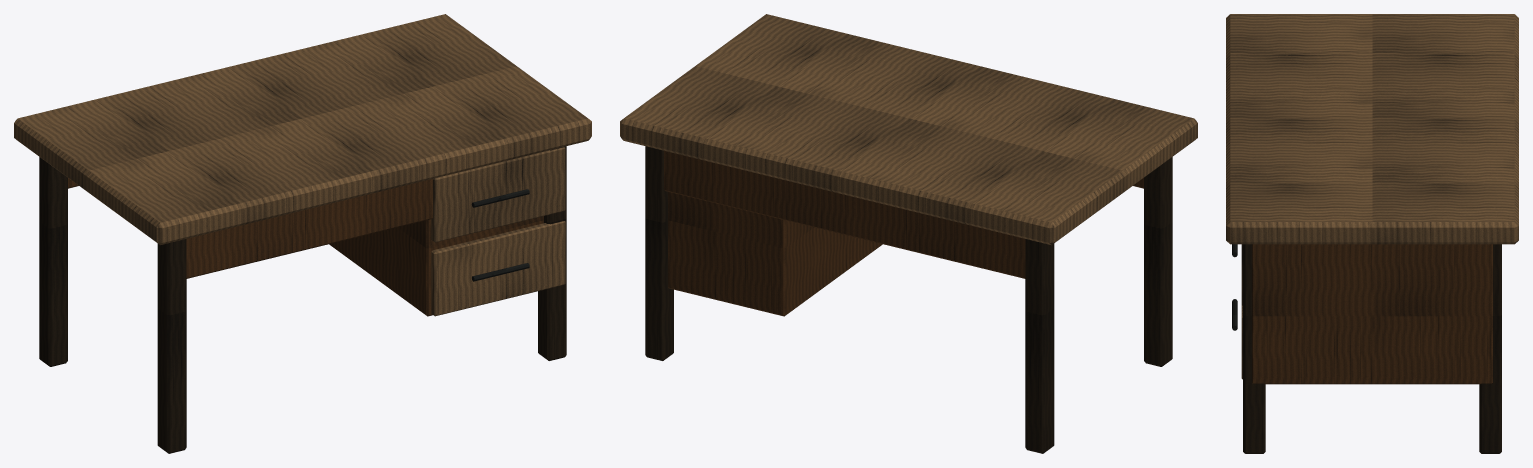
Rendered from desk_original_clean_strokes_v1.glb.
3 renders of one model, left to right at view 1: azimuth 30°, elevation 25°; view 2: azimuth 150°, elevation 25°; view 3: azimuth 270°, elevation 25°, orthographic.
Visible parts, largest first — view 1: PROP_desk; view 2: PROP_desk; view 3: PROP_desk.
Boxes of the visible parts, x1,y1,x2,y2 form: PROP_desk: (14,14,591,453); PROP_desk: (620,14,1197,453); PROP_desk: (1226,14,1518,453).
Size of the model in its own units: 1.42 by 0.75 by 0.83.
4 materials, 4 textured.
